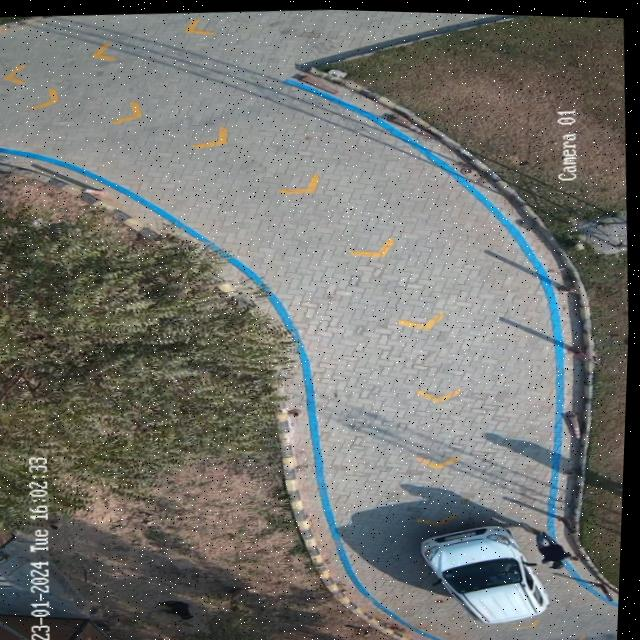car: (425, 521, 554, 620)
